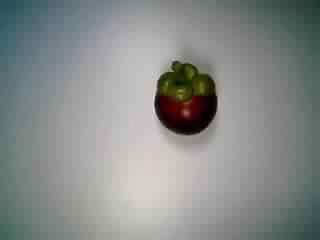mangosteen: (146, 59, 220, 139)
